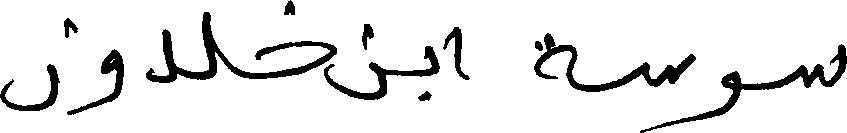X: (256, 0, 334, 92), (336, 19, 385, 104), (645, 49, 692, 132), (0, 59, 57, 115), (534, 28, 576, 93), (804, 39, 846, 92), (147, 24, 177, 87), (101, 44, 123, 109), (203, 7, 218, 84), (721, 66, 741, 119), (426, 41, 439, 105), (453, 22, 466, 84)
